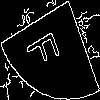F: (25, 24, 67, 72)
